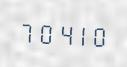four: (54, 19, 71, 47)
one: (72, 20, 89, 48)
seven: (18, 17, 35, 45)
zero: (36, 18, 53, 46), (90, 21, 107, 49)
